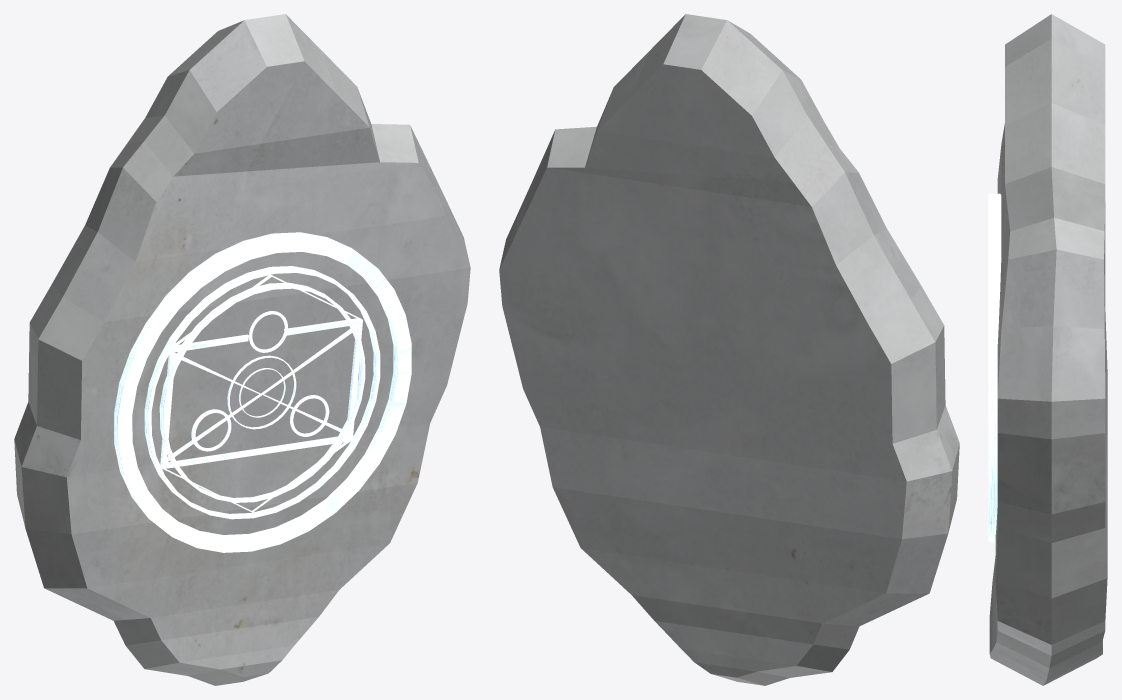
The model's file is thunderstrike.fbx.
The picture shows the model from 3 angles, left to right: view 1: azimuth 30°, elevation 25°; view 2: azimuth 150°, elevation 25°; view 3: azimuth 270°, elevation 25°; orthographic projection. The views are drawn at different scales.
Parts seen in each view (by area): view 1: Cube.002, Cube.004; view 2: Cube.002; view 3: Cube.002, Cube.004.
Part boxes in pixels (<box>): Cube.002: <box>14,14,470,685</box>; Cube.004: <box>114,232,411,552</box>; Cube.002: <box>499,14,959,685</box>; Cube.002: <box>989,14,1107,685</box>; Cube.004: <box>988,193,1001,542</box>.
Bounding box in the file's own units: 121 × 171 × 27.38.
